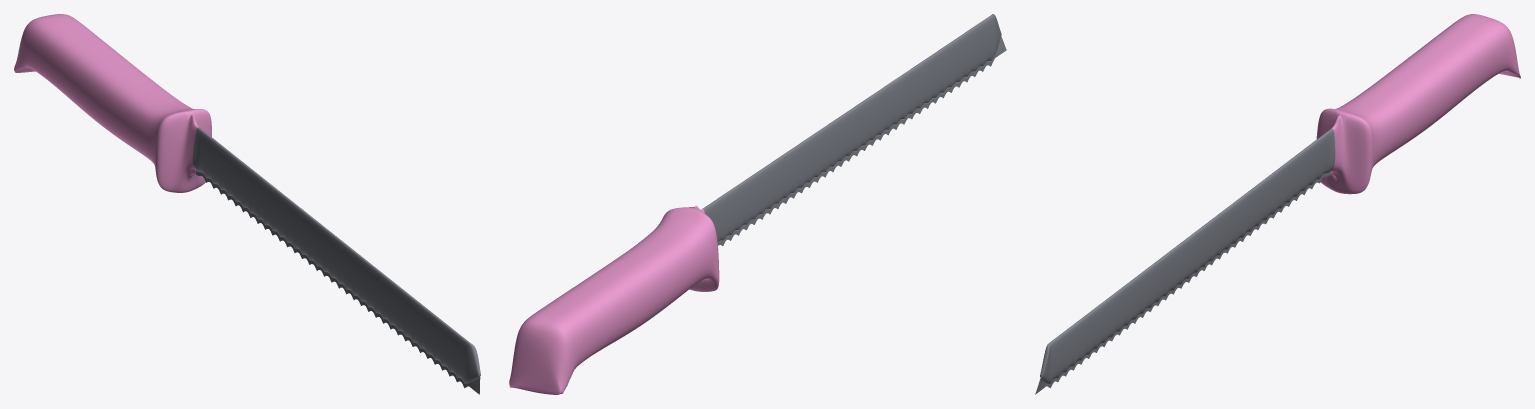
The model's file is couteau.fbx.
The picture shows the model from 3 angles, left to right: view 1: azimuth 30°, elevation 25°; view 2: azimuth 150°, elevation 25°; view 3: azimuth 330°, elevation 25°; orthographic projection. The views are drawn at different scales.
Visible parts, largest first — view 1: knife; view 2: knife; view 3: knife.
Part boxes in pixels (x1=…): knife: x1=14, y1=14, x2=480, y2=394; knife: x1=509, y1=14, x2=1006, y2=394; knife: x1=1035, y1=14, x2=1520, y2=394.
Size of the model in its own units: 11.25 by 14.87 by 152.
